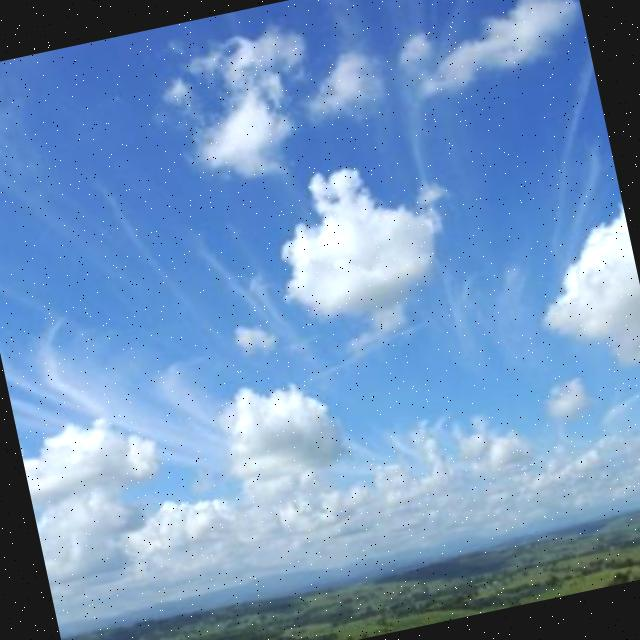Cu: (1, 1, 640, 617)
